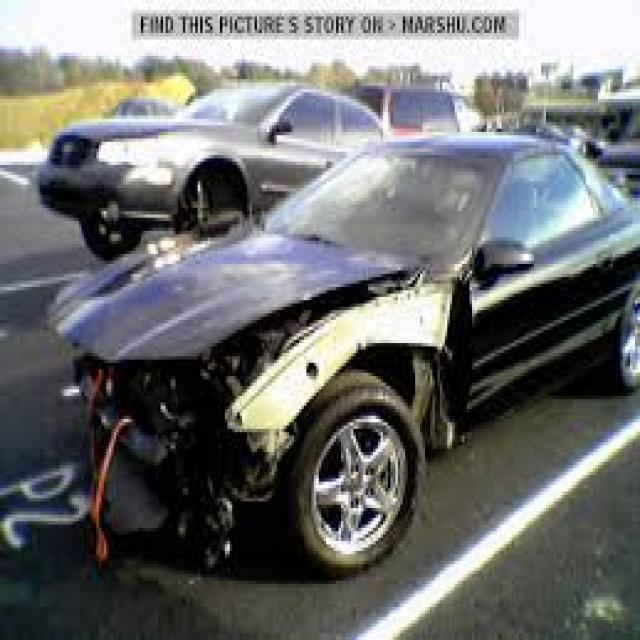moderate: (14, 257, 472, 588)
